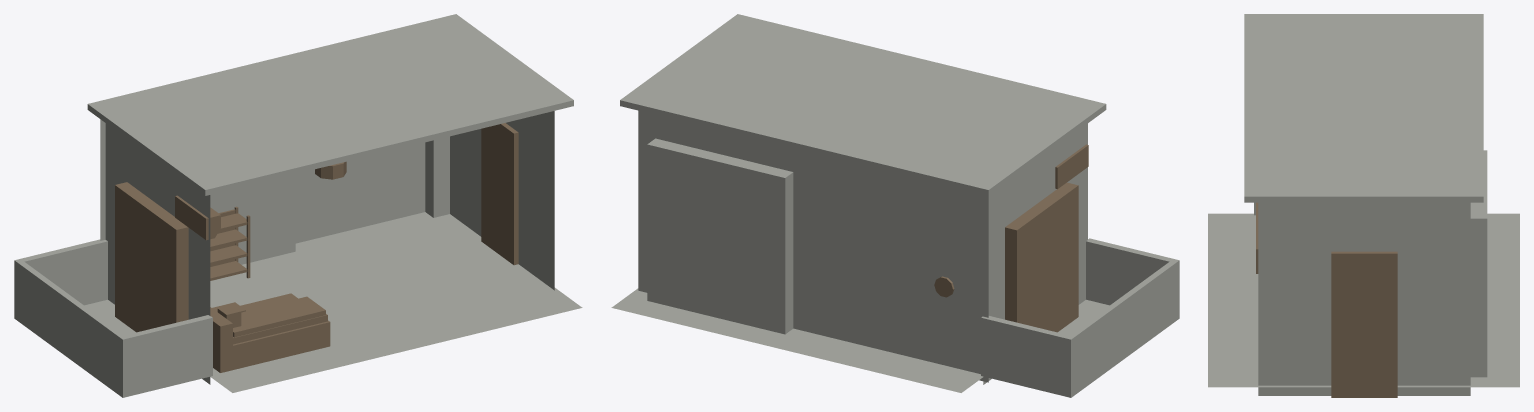
File: home_bedroom.fbx
3 renders of one model, left to right at view 1: azimuth 30°, elevation 25°; view 2: azimuth 150°, elevation 25°; view 3: azimuth 270°, elevation 25°, orthographic.
Visible parts, largest first — view 1: pPlane109, pPlane53, pPlane123, pPlane343, pPlane57, pPlane64, pPlane56, pPlane63, pPlane55, pPlane111, pCylinder80, pPlane110 (+1 smaller); view 2: pPlane343, pPlane109, pPlane123, pPlane57, pPlane53, pPlane56, pCylinder80, pPlane122; view 3: pPlane109, pPlane64, pPlane53, pPlane63, pPlane343.
Part boxes in pixels (<box>): pPlane109: <box>87,14,573,195</box>; pPlane53: <box>210,212,582,392</box>; pPlane123: <box>14,239,212,397</box>; pPlane343: <box>100,119,449,264</box>; pPlane57: <box>115,182,188,332</box>; pPlane64: <box>450,111,554,290</box>; pPlane56: <box>105,123,210,384</box>; pPlane63: <box>481,123,518,265</box>; pPlane55: <box>210,293,330,372</box>; pPlane111: <box>233,296,325,337</box>; pCylinder80: <box>175,195,220,240</box>; pPlane110: <box>233,314,327,344</box>; pPlane343: <box>638,110,988,382</box>; pPlane109: <box>620,14,1106,195</box>; pPlane123: <box>981,238,1179,397</box>; pPlane57: <box>1005,182,1078,332</box>; pPlane53: <box>611,288,983,392</box>; pPlane56: <box>983,123,1087,384</box>; pCylinder80: <box>1055,144,1088,189</box>; pPlane122: <box>1058,299,1109,334</box>; pPlane109: <box>1244,14,1483,202</box>; pPlane64: <box>1258,202,1470,395</box>; pPlane53: <box>1208,213,1519,387</box>; pPlane63: <box>1331,251,1397,397</box>; pPlane343: <box>1470,150,1487,377</box>.
Size of the model in its own units: 10.56 by 4.58 by 6.29.
